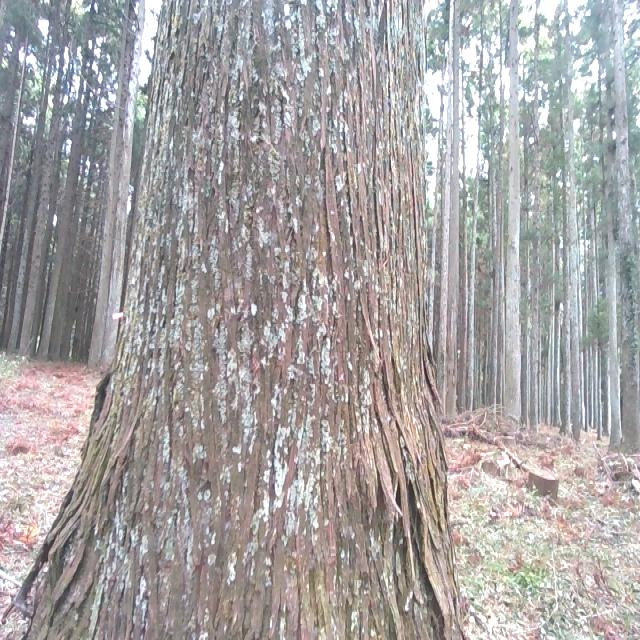tree: (1, 0, 461, 640)
